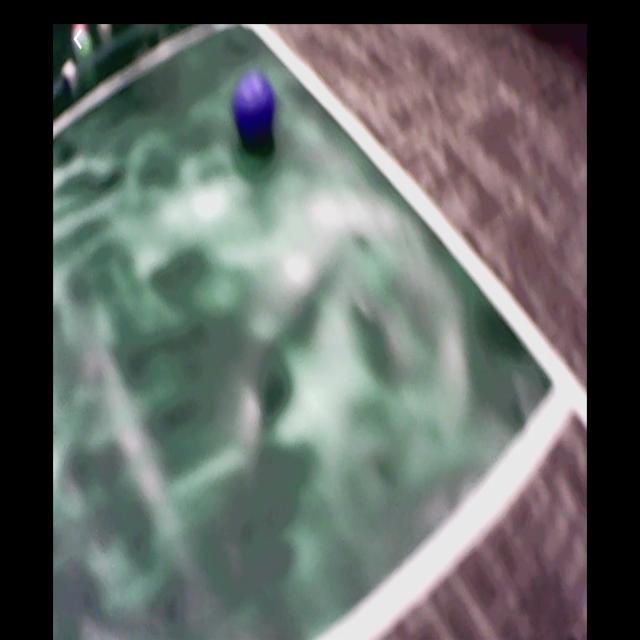ball: (234, 74, 277, 144)
